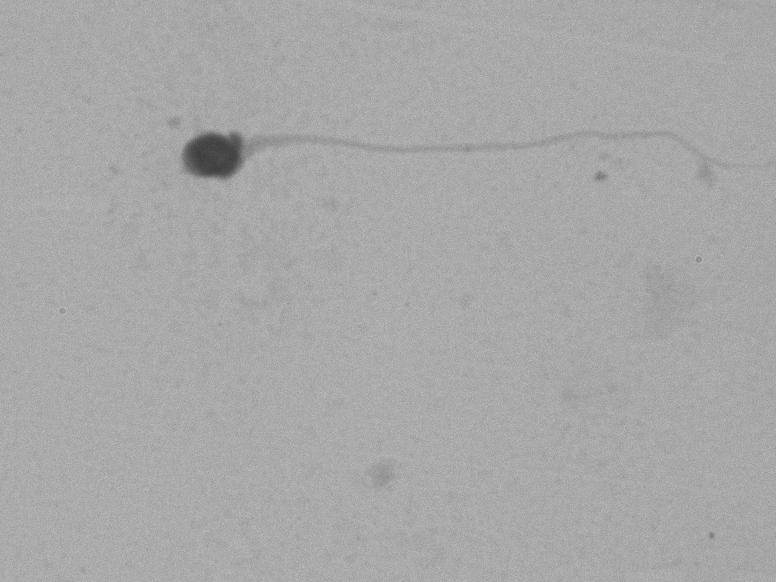Abnormal: (136, 61, 750, 235)
